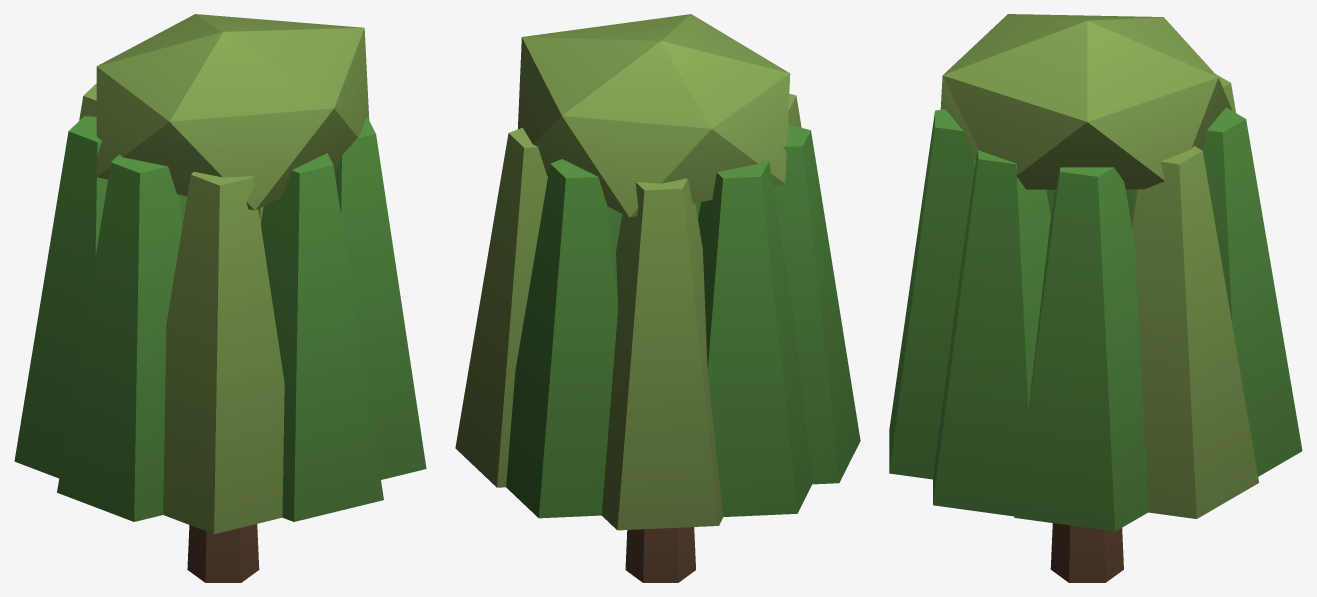
The model's file is tree_I.glb.
The picture shows the model from 3 angles, left to right: view 1: azimuth 30°, elevation 25°; view 2: azimuth 150°, elevation 25°; view 3: azimuth 270°, elevation 25°; orthographic projection. The views are drawn at different scales.
Parts seen in each view (by area): view 1: tree_I; view 2: tree_I; view 3: tree_I.
Boxes of the visible parts, x1,y1,x2,y2 form: tree_I: (14,14,426,582); tree_I: (455,14,860,582); tree_I: (889,14,1302,582).
Bounding box in the file's own units: 1.48 × 2.15 × 1.47.
1 material, 1 textured.
